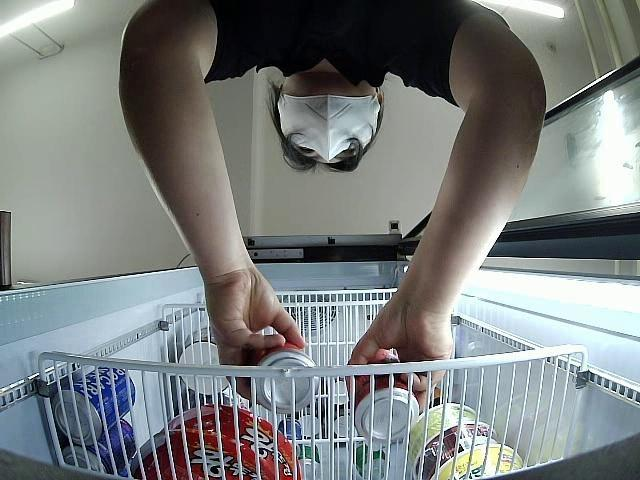11_cocaColaZero: (348, 348, 420, 444), (251, 340, 317, 411)
